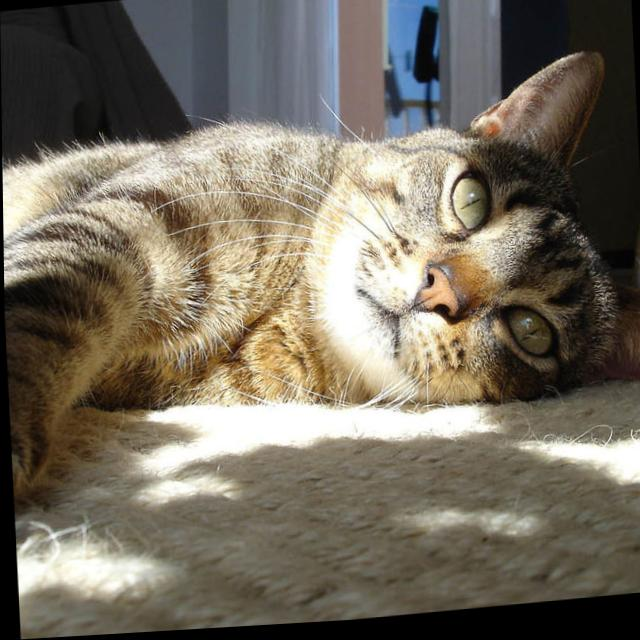animals: (403, 54, 640, 404)
